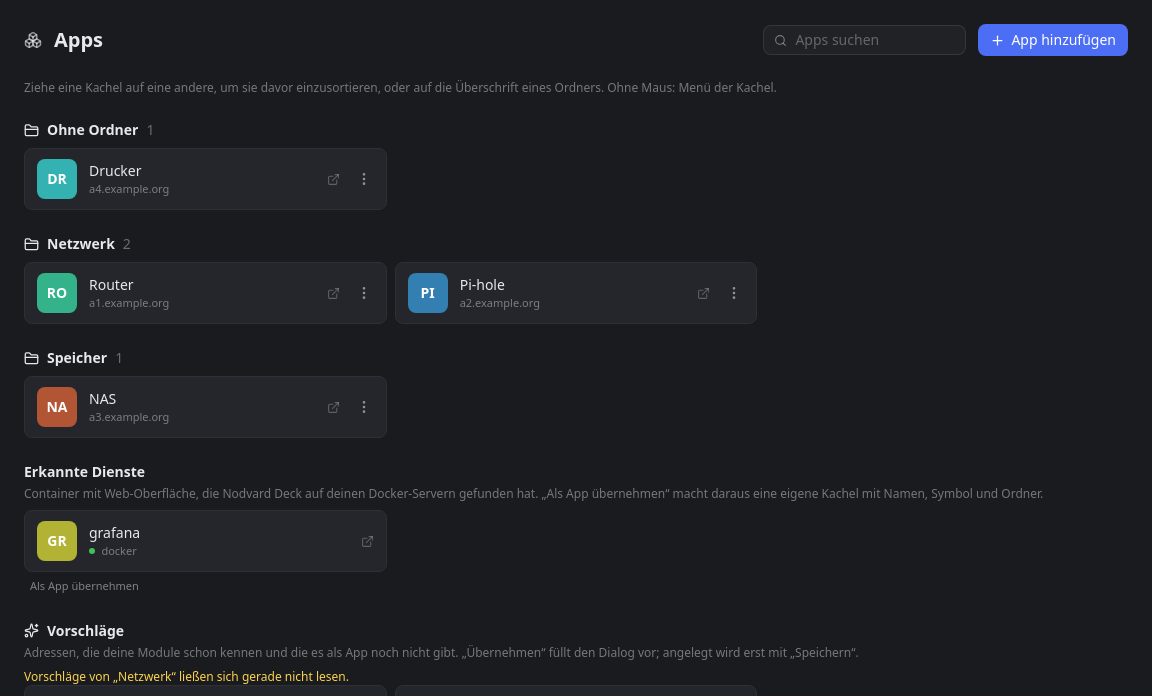
Test: Seite „Apps“ › klappt einen Ordner zu und wieder auf
This screenshot has width=1152, height=696.
Click the button "Netzwerk 2".
click(77, 244)  # box 24,234 -> 131,254
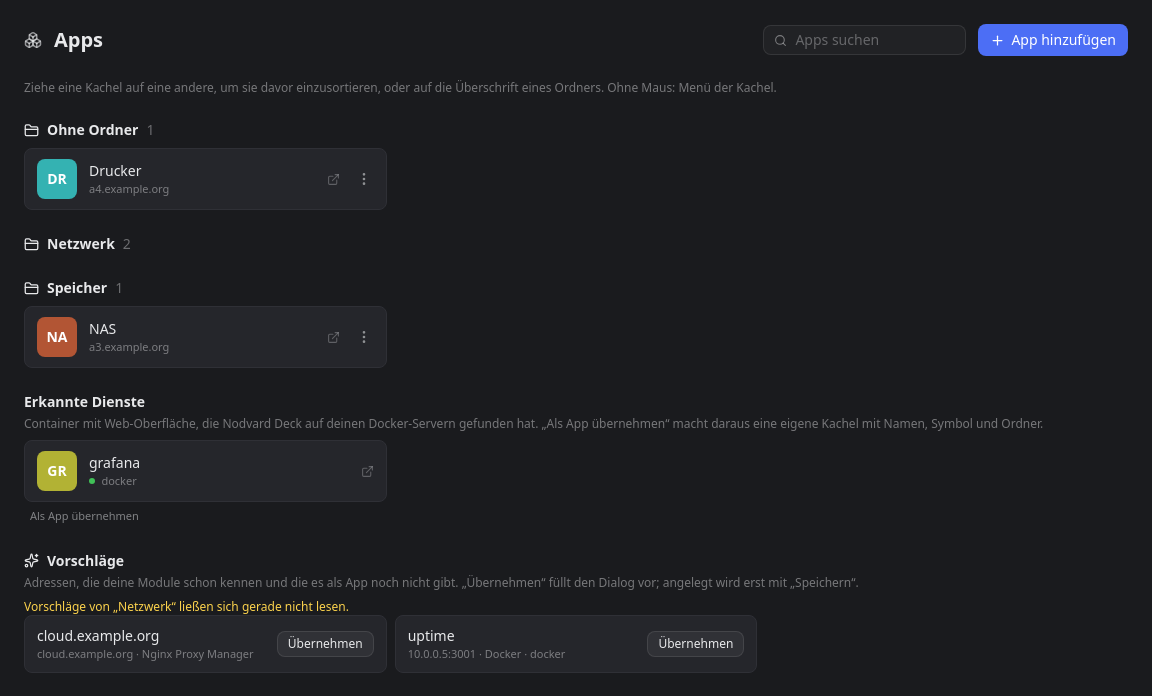
Check: the link "Router" is gone
